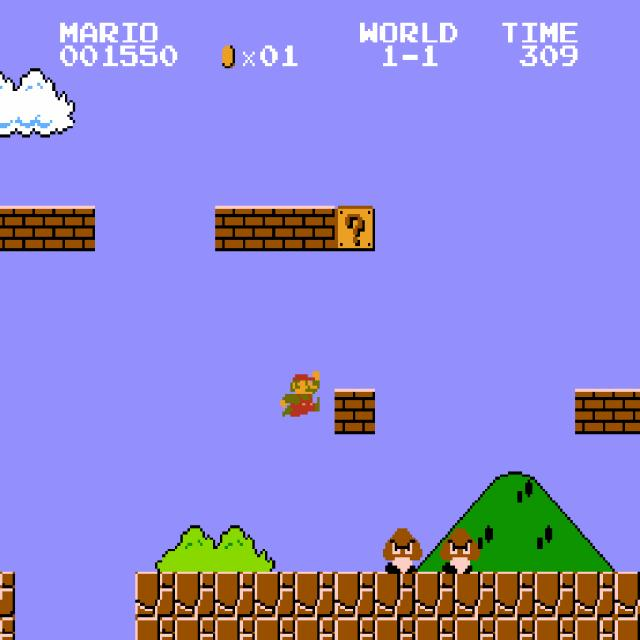brick_block: (15, 206, 55, 251), (55, 206, 95, 251), (215, 206, 255, 251), (255, 206, 295, 251), (295, 206, 335, 251), (335, 389, 375, 434), (575, 389, 615, 434), (614, 388, 640, 434), (0, 206, 15, 251)
goomba: (380, 526, 422, 574), (438, 526, 480, 574)
little_mario: (277, 369, 320, 417)
mystery_block: (335, 206, 375, 251)
undestructible_block: (135, 572, 175, 617), (175, 572, 215, 617), (215, 572, 255, 617), (255, 572, 295, 617), (295, 572, 335, 617), (335, 572, 375, 617), (375, 572, 415, 617), (415, 572, 455, 617), (455, 572, 495, 617), (495, 572, 535, 617), (535, 572, 575, 617), (575, 572, 615, 617), (614, 571, 640, 617), (135, 617, 175, 640), (175, 617, 215, 640), (215, 617, 255, 640), (255, 617, 295, 640), (295, 617, 335, 640), (335, 617, 375, 640), (375, 617, 415, 640), (415, 617, 455, 640), (455, 617, 495, 640), (495, 617, 535, 640), (535, 617, 575, 640), (575, 617, 615, 640), (0, 572, 15, 617), (614, 617, 640, 639), (0, 617, 15, 640)
